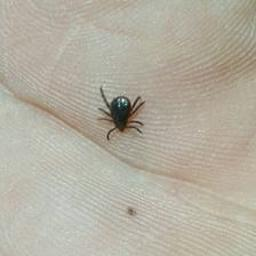Rhipicephalus sanguineus: (97, 87, 145, 141)
